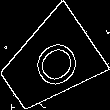O_SW: (18, 31, 80, 95)
